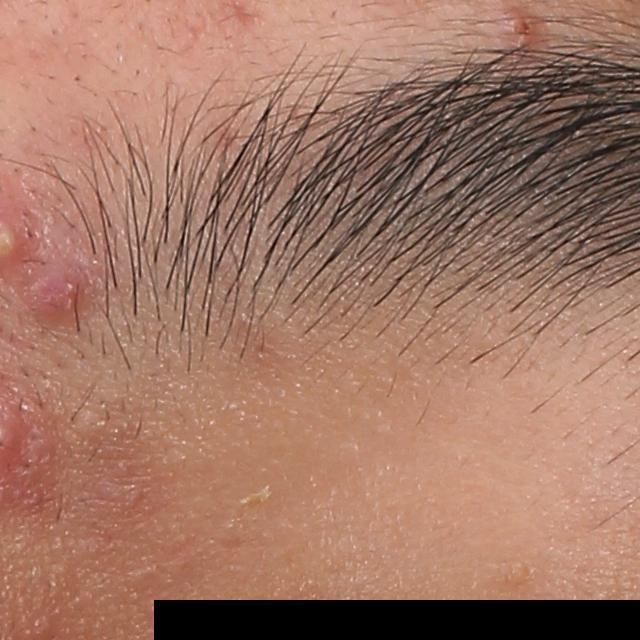papule: (21, 261, 95, 330), (500, 2, 544, 63)
